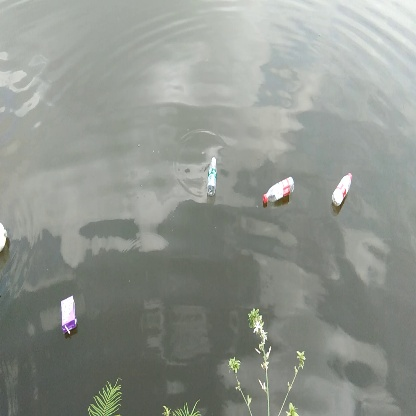bottle: (259, 174, 296, 209), (329, 169, 355, 215), (203, 151, 223, 202)
milk-box: (55, 291, 82, 337)
